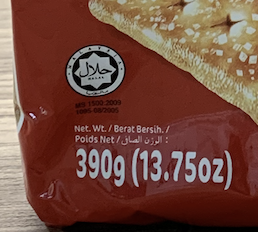halal: (77, 50, 113, 88)
